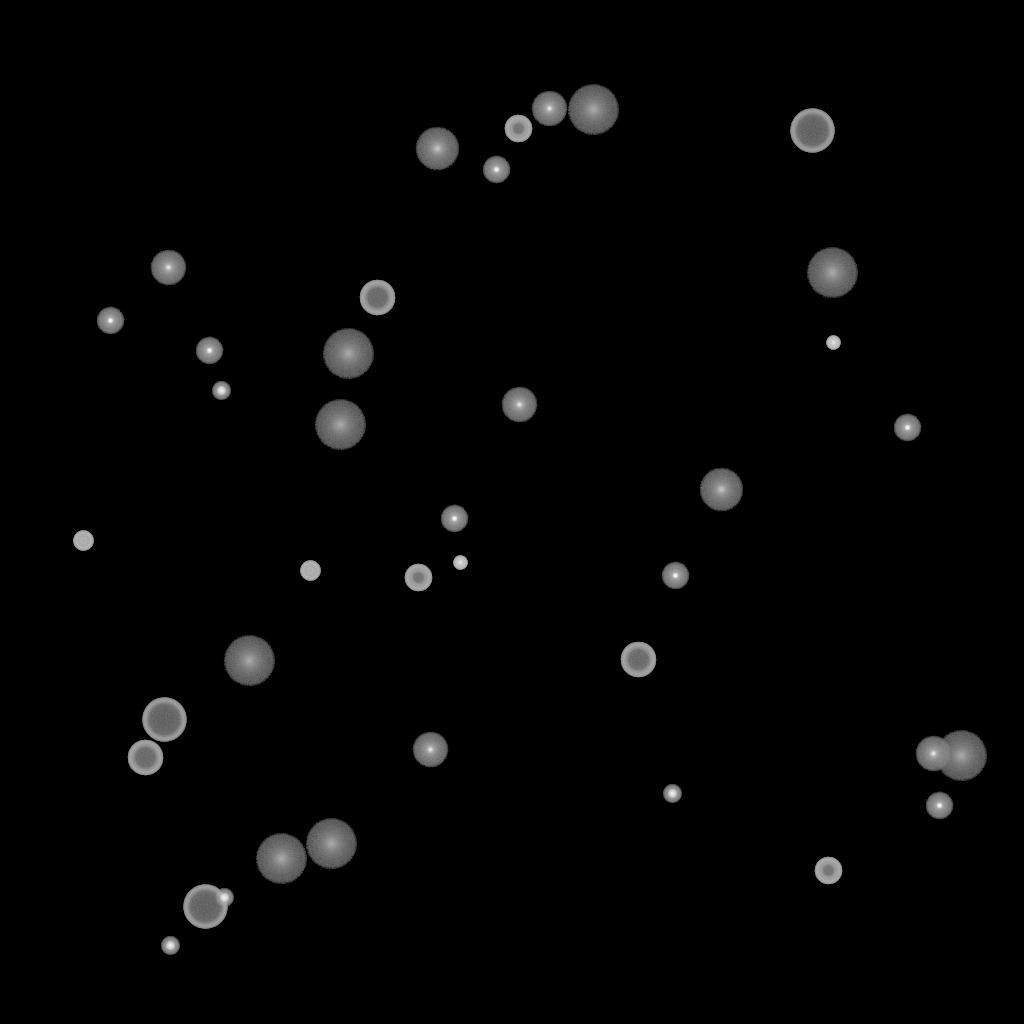depth:-10: (482, 156, 510, 184), (925, 792, 953, 820), (661, 562, 689, 590), (195, 337, 223, 365), (96, 307, 124, 335), (440, 505, 468, 533), (893, 414, 921, 442)
depth:-20: (161, 937, 179, 955), (663, 785, 681, 803), (215, 889, 233, 907), (212, 382, 230, 400)
depth:-30: (453, 556, 467, 570), (826, 336, 840, 350)
depth:-40: (73, 531, 93, 551), (300, 561, 320, 581)
depth:-50: (814, 857, 842, 885), (504, 115, 532, 143), (404, 564, 432, 592)
depth:-60: (620, 642, 656, 678), (359, 280, 395, 316), (127, 740, 163, 776)
depth:-70: (790, 109, 834, 153), (142, 698, 186, 742), (183, 885, 227, 929)
depth:0: (412, 732, 448, 768), (150, 250, 186, 286), (531, 91, 567, 127), (915, 736, 951, 772), (501, 387, 537, 423)
depth:10: (699, 468, 743, 512), (415, 127, 459, 171)
depth:20: (314, 400, 366, 450), (935, 731, 987, 781), (305, 819, 357, 869), (223, 636, 275, 686), (322, 329, 374, 379), (806, 248, 858, 298), (255, 834, 307, 884), (567, 85, 619, 135)
